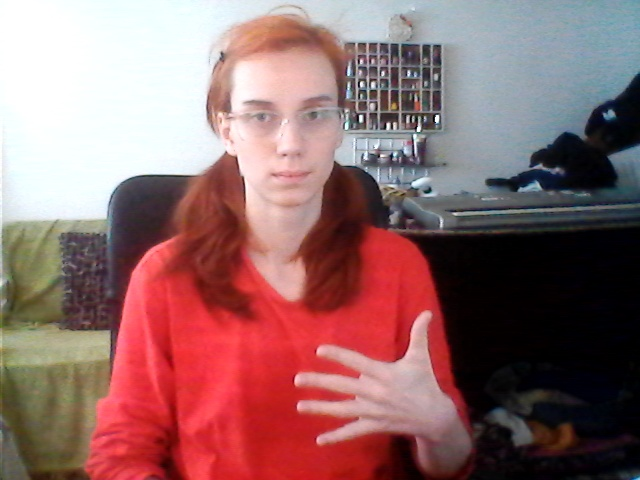pat: (286, 308, 455, 448)
